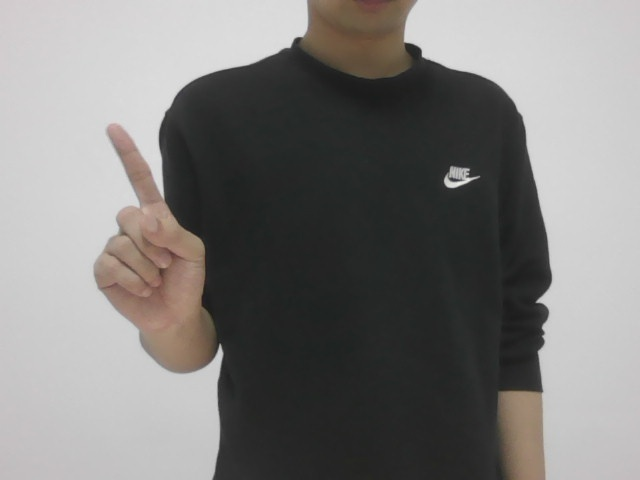what: (73, 113, 209, 345)
